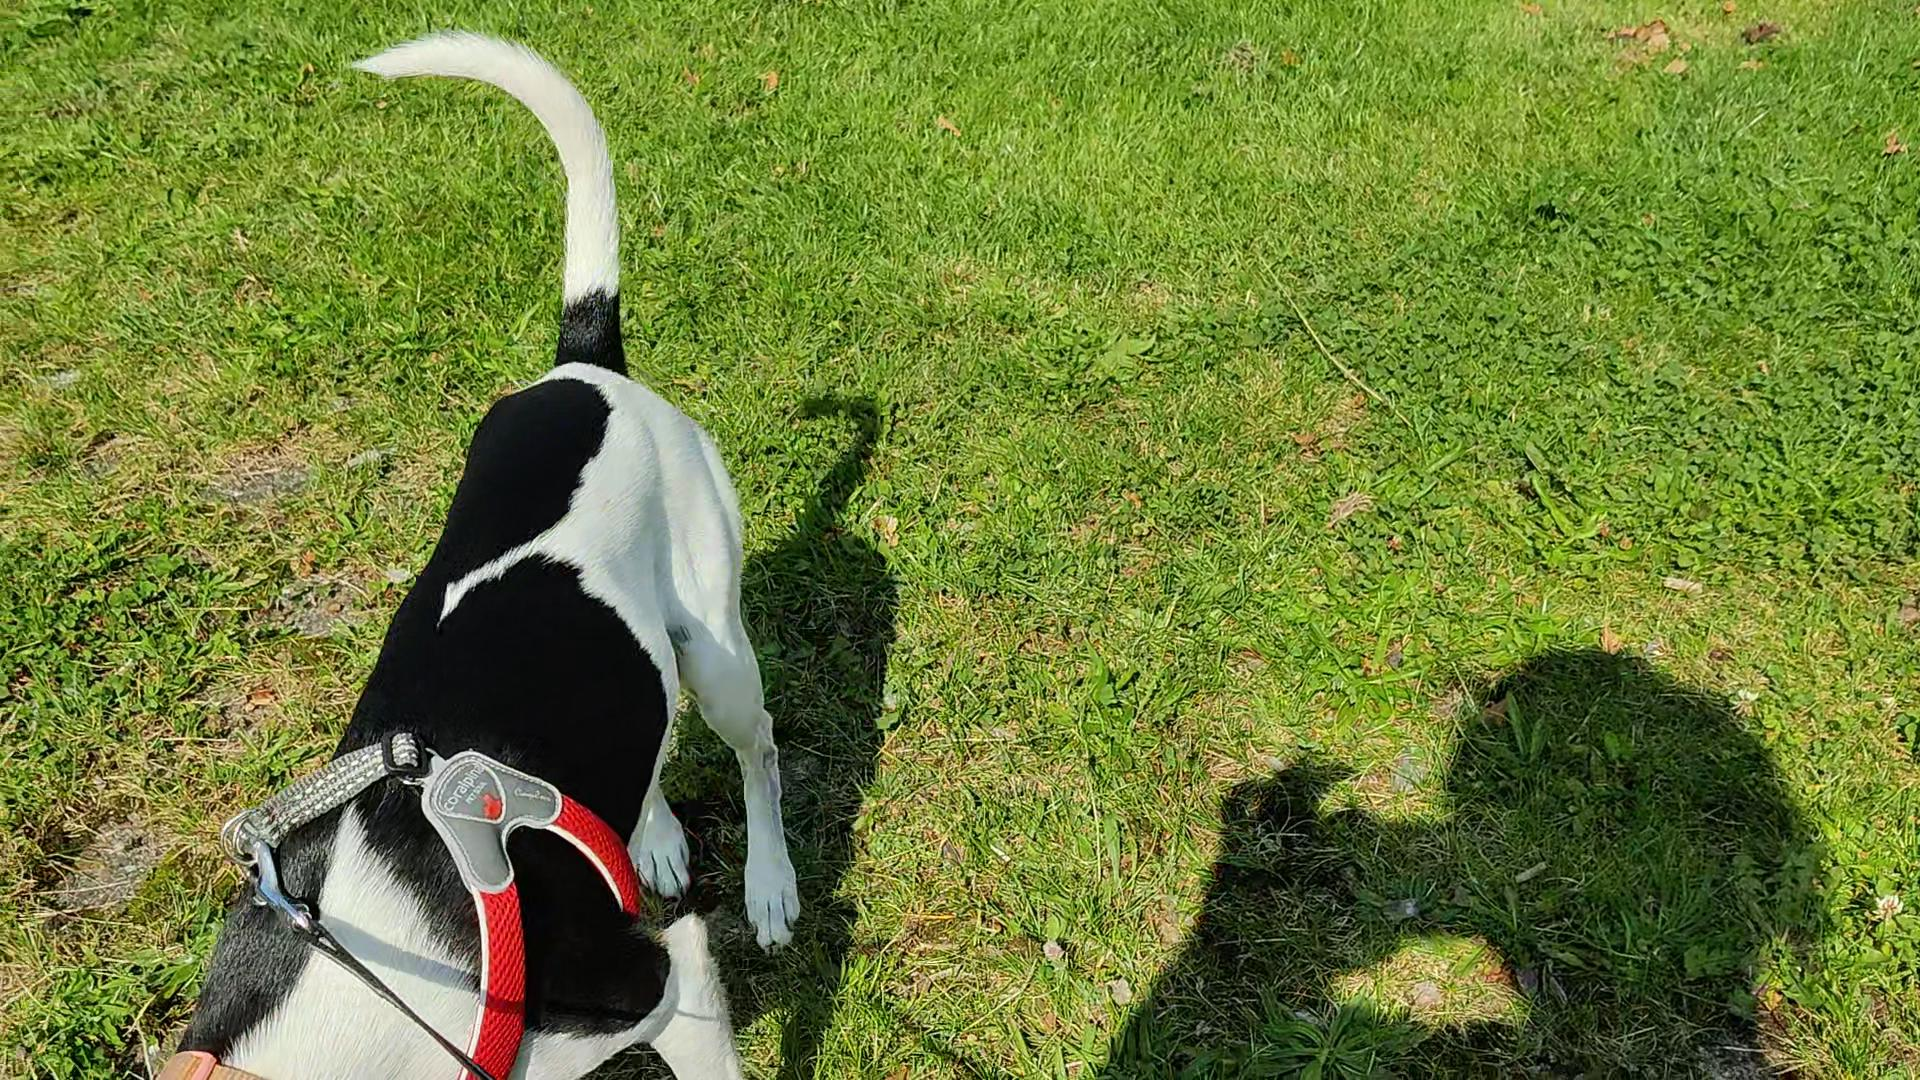Dog: (123, 15, 812, 1079)
